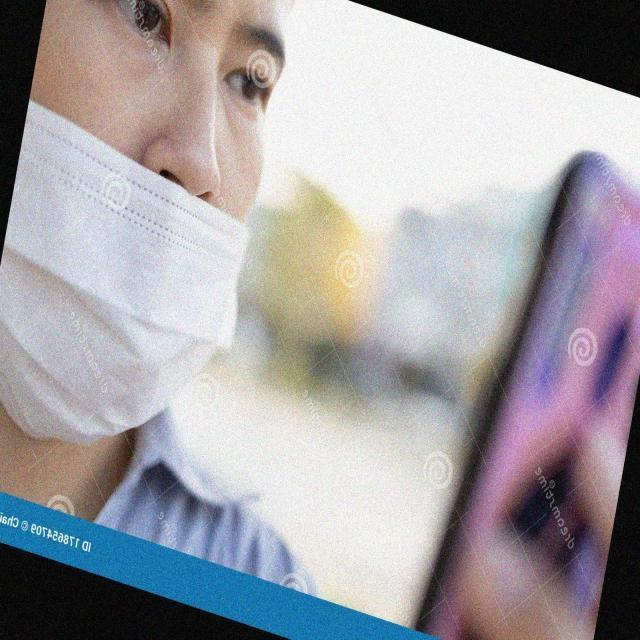hairnet: (0, 29, 295, 452)
